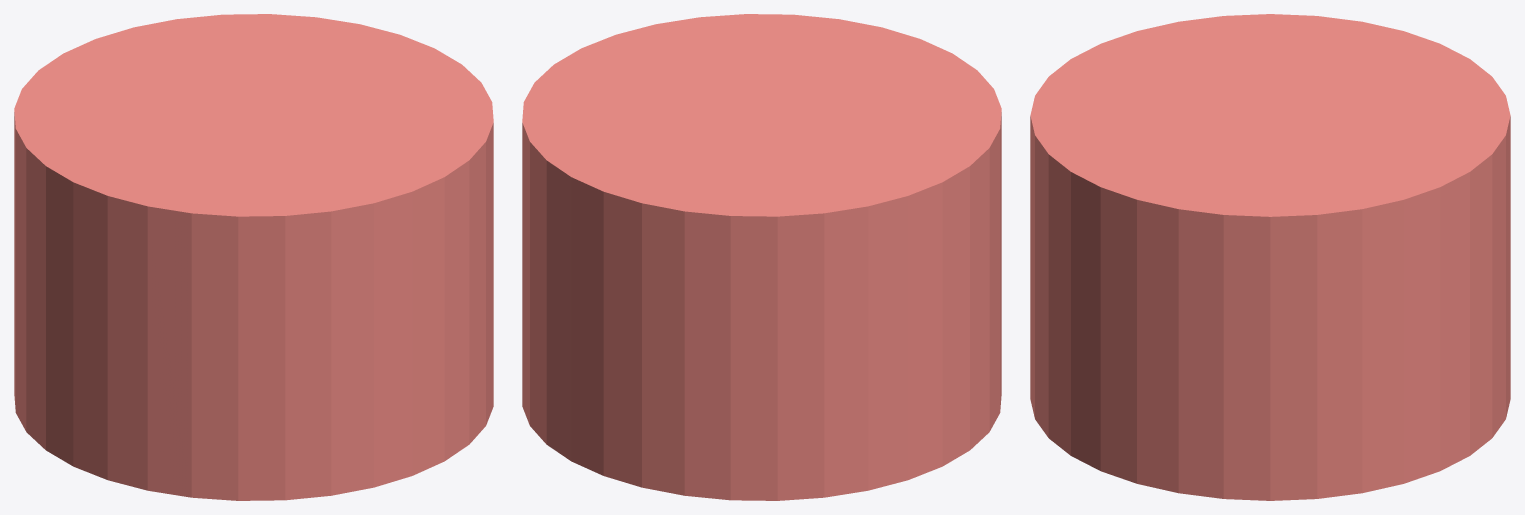
File: TrafficLight_Red.glb
3 renders of one model, left to right at view 1: azimuth 30°, elevation 25°; view 2: azimuth 150°, elevation 25°; view 3: azimuth 270°, elevation 25°, orthographic.
Parts seen in each view (by area): view 1: TrafficLight_Red; view 2: TrafficLight_Red; view 3: TrafficLight_Red.
Part boxes in pixels (x1,y1,x2,y2): TrafficLight_Red: [14, 14, 493, 500]; TrafficLight_Red: [522, 14, 1001, 500]; TrafficLight_Red: [1030, 14, 1510, 500].
Bounding box in the file's own units: 0.022 × 0.0144 × 0.022.
